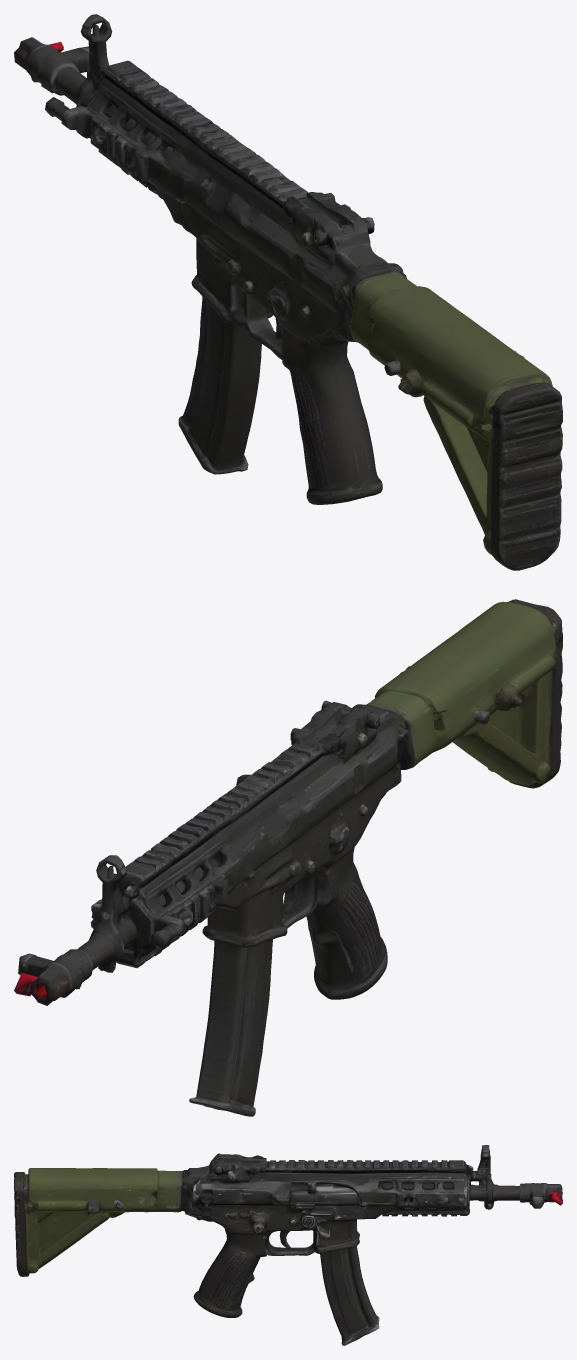
Rendered from tripo_smg.glb.
3 renders of one model, top to bottom at view 1: azimuth 30°, elevation 25°; view 2: azimuth 150°, elevation 25°; view 3: azimuth 270°, elevation 25°, orthographic. The views are drawn at different scales.
Parts seen in each view (by area): view 1: Body, MagazineMesh; view 2: Body, MagazineMesh; view 3: Body, MagazineMesh.
Boxes of the visible parts, x1=… form: Body: x1=14, y1=14, x2=562, y2=570; MagazineMesh: x1=178, y1=285, x2=261, y2=474; Body: x1=14, y1=599, x2=562, y2=1005; MagazineMesh: x1=189, y1=918, x2=287, y2=1116; Body: x1=14, y1=1145, x2=562, y2=1317; MagazineMesh: x1=318, y1=1244, x2=379, y2=1345.
Size of the model in its own units: 0.1879 by 0.5376 by 1.37.
1 material, 1 textured.
